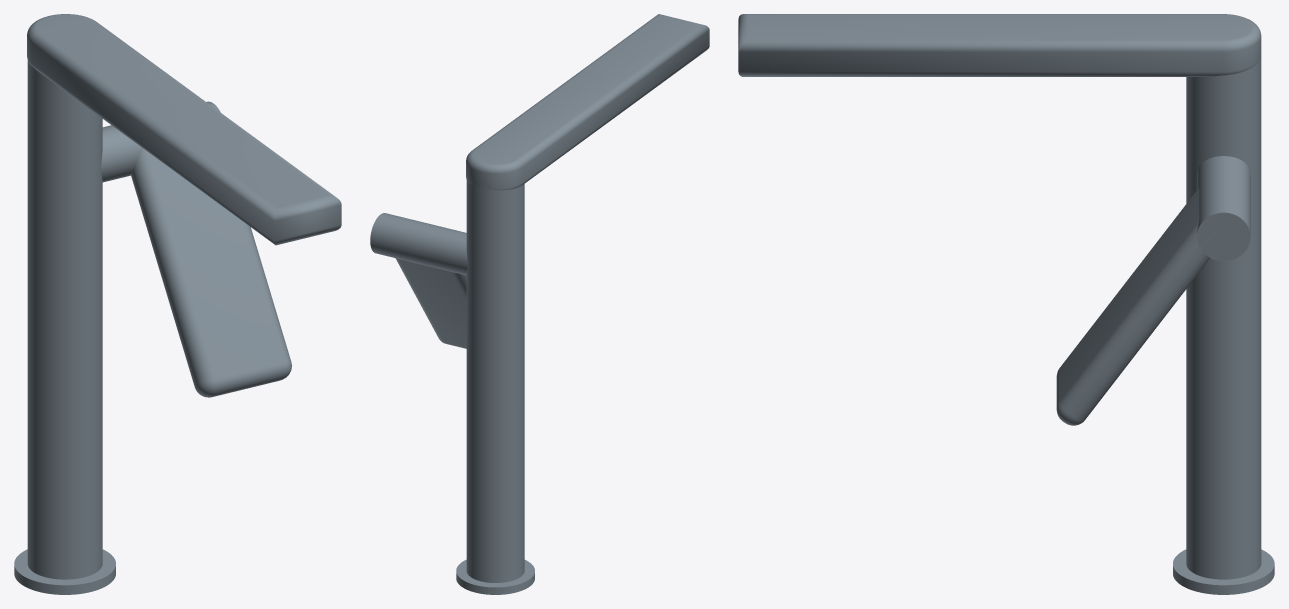
3 renders of one model, left to right at view 1: azimuth 30°, elevation 25°; view 2: azimuth 150°, elevation 25°; view 3: azimuth 270°, elevation 25°, orthographic. The views are drawn at different scales.
Parts seen in each view (by area): view 1: stand; view 2: stand; view 3: stand.
Boxes of the visible parts, left/top/right/bottom form: stand: left=14, top=14, right=341, bottom=594; stand: left=370, top=14, right=709, bottom=594; stand: left=738, top=14, right=1274, bottom=594.
Size of the model in its own units: 0.166 by 0.45 by 0.4004.
